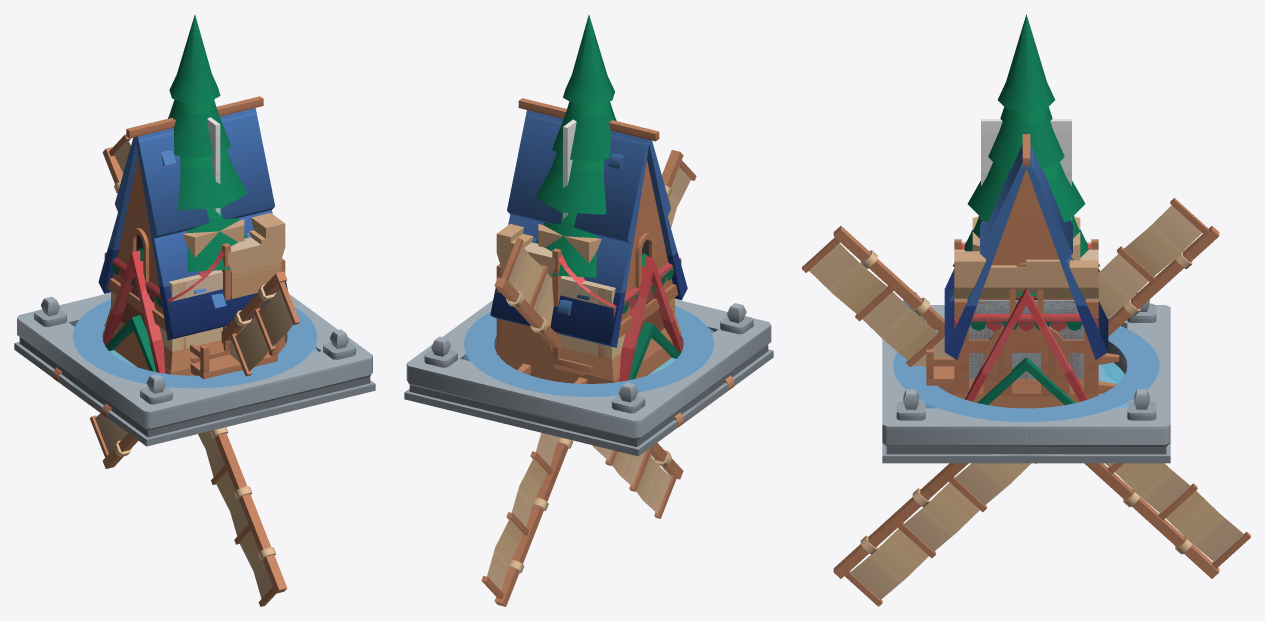
Rendered from town2.glb.
3 views of the same model, side by side, from view 1: azimuth 30°, elevation 25°; view 2: azimuth 150°, elevation 25°; view 3: azimuth 270°, elevation 25° (orthographic). The views are drawn at different scales.
Parts seen in each view (by area): view 1: fountain-square, tower-slant-roof, windmill, tree-high, fountain-round, tower-square-base, wall-narrow-gate, roof-high-gable, stall-red, cart, roof-gable, tower-hexagon-base (+1 smaller); view 2: fountain-square, tower-slant-roof, windmill, tree-high, fountain-round, tower-square-base, wall-narrow-gate, roof-high-gable, stall-red, roof-gable, tower-hexagon-base, flag-banner-long; view 3: windmill, fountain-square, tower-slant-roof, tree-high, fountain-round, wall-narrow-gate, wall, wall-window-glass, roof-high-gable, wall-door, flag-banner-long, tower-square-base (+5 smaller).
Boxes of the visible parts, <box> form: fountain-square: <box>14,292,375,446</box>; tower-slant-roof: <box>98,96,287,340</box>; windmill: <box>90,134,299,606</box>; tree-high: <box>137,15,246,271</box>; fountain-round: <box>68,299,317,416</box>; tower-square-base: <box>105,270,223,375</box>; wall-narrow-gate: <box>228,213,285,354</box>; roof-high-gable: <box>103,250,285,373</box>; stall-red: <box>104,243,230,362</box>; cart: <box>190,342,277,379</box>; roof-gable: <box>105,315,156,371</box>; tower-hexagon-base: <box>182,219,244,257</box>; fountain-square: <box>404,299,773,456</box>; tower-slant-roof: <box>490,98,687,347</box>; windmill: <box>481,150,696,606</box>; tree-high: <box>535,15,648,277</box>; fountain-round: <box>463,306,717,426</box>; tower-square-base: <box>555,276,680,383</box>; wall-narrow-gate: <box>496,224,555,381</box>; roof-high-gable: <box>496,256,682,381</box>; stall-red: <box>552,248,681,372</box>; roof-gable: <box>628,322,680,380</box>; tower-hexagon-base: <box>538,224,601,262</box>; flag-banner-long: <box>563,119,576,219</box>; windmill: <box>802,198,1250,606</box>; fountain-square: <box>882,292,1170,463</box>; tower-slant-roof: <box>944,134,1108,359</box>; tree-high: <box>953,14,1099,295</box>; fountain-round: <box>893,326,1159,462</box>; wall-narrow-gate: <box>954,249,1098,299</box>; wall: <box>954,300,1098,393</box>; wall-window-glass: <box>969,300,1083,396</box>; roof-high-gable: <box>965,288,1105,401</box>; wall-door: <box>969,300,1083,393</box>; flag-banner-long: <box>981,119,1071,219</box>; tower-square-base: <box>957,242,1095,408</box>.
Size of the model in its own units: 2 by 4.53 by 3.11.
Materials: 3 (2 with a texture image).
